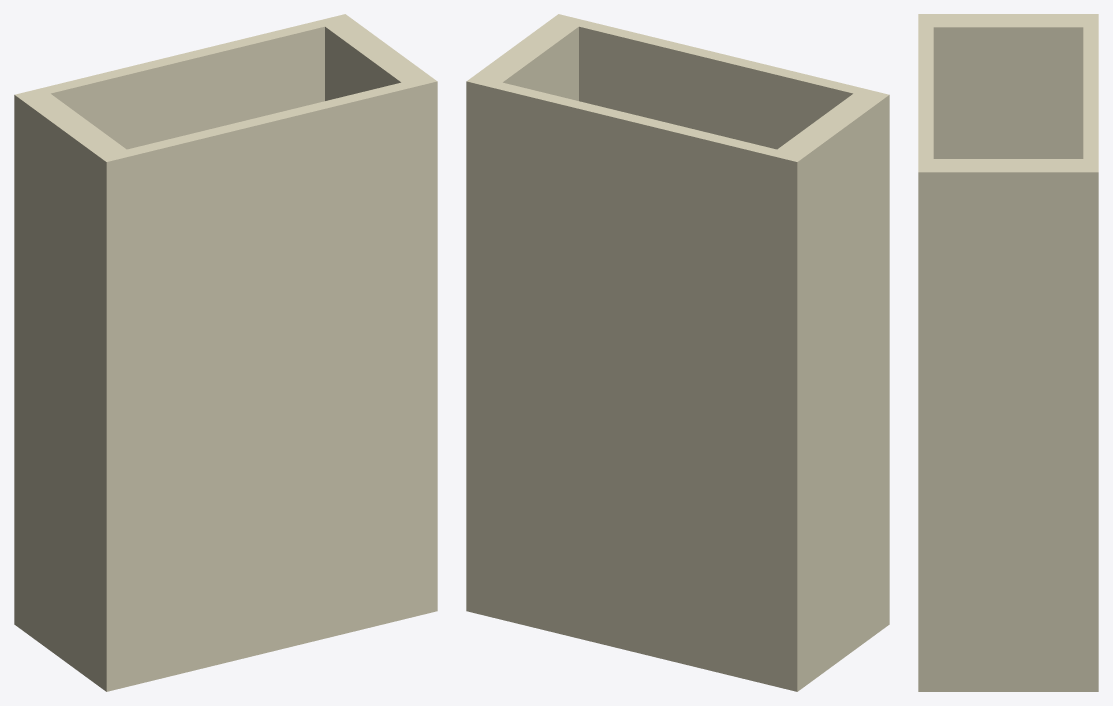
File: trashcan.glb
3 renders of one model, left to right at view 1: azimuth 30°, elevation 25°; view 2: azimuth 150°, elevation 25°; view 3: azimuth 270°, elevation 25°, orthographic.
Visible parts, largest first — view 1: Cube; view 2: Cube; view 3: Cube.
Part boxes in pixels (x1=…): Cube: x1=14, y1=14, x2=437, y2=691; Cube: x1=466, y1=14, x2=889, y2=691; Cube: x1=918, y1=14, x2=1098, y2=691.
Bounding box in the file's own units: 0.5963 × 0.9121 × 0.2874.
